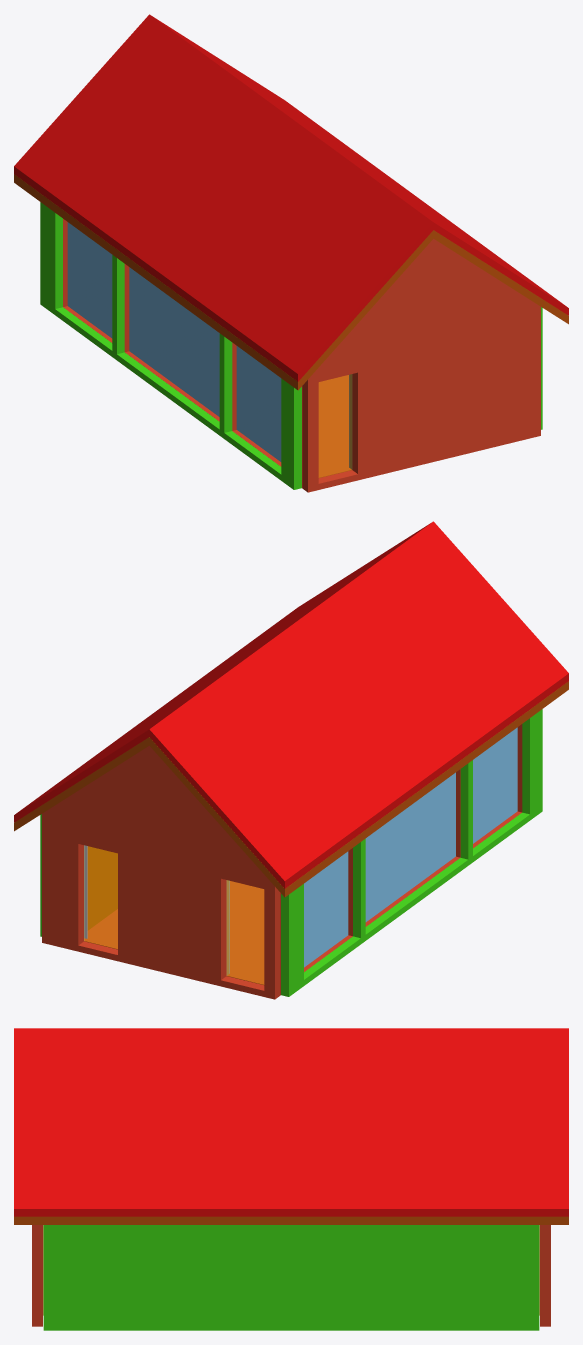
Rendered from obyvak.glb.
3 renders of one model, top to bottom at view 1: azimuth 30°, elevation 25°; view 2: azimuth 150°, elevation 25°; view 3: azimuth 270°, elevation 25°, orthographic. The views are drawn at different scales.
Parts seen in each view (by area): view 1: krytina, zdivo (×2), sklo (×3), eps, krov, podlaha; view 2: krytina, zdivo (×2), sklo (×3), eps, krov, podlaha, nabytek; view 3: krytina, eps, krov, zdivo (×2).
Part boxes in pixels (x1,y1,x2,y2): krytina: (14, 14, 568, 381); zdivo (×2): (63, 219, 540, 492); sklo (×3): (67, 222, 281, 461); eps: (40, 202, 301, 489); krov: (14, 174, 568, 390); podlaha: (318, 375, 351, 477); krytina: (14, 521, 568, 888); zdivo (×2): (42, 724, 522, 999); sklo (×3): (304, 727, 517, 967); eps: (281, 709, 542, 996); krov: (14, 681, 568, 897); podlaha: (84, 881, 264, 984); nabytek: (87, 846, 117, 930); krytina: (14, 1028, 568, 1216); eps: (43, 1225, 539, 1330); krov: (14, 1216, 568, 1224); zdivo (×2): (32, 1225, 550, 1326).
Size of the model in its own units: 6.84 by 6 by 12.43.
